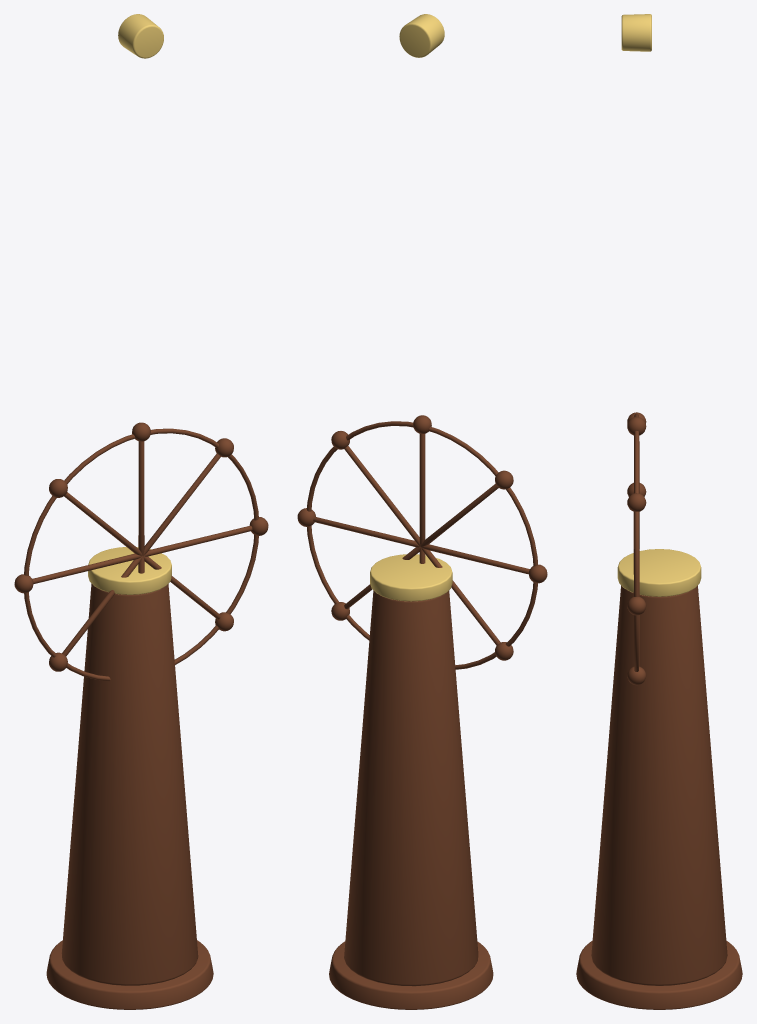
Rendered from ShipWheel_v1.0.fbx.
3 views of the same model, side by side, from view 1: azimuth 30°, elevation 25°; view 2: azimuth 150°, elevation 25°; view 3: azimuth 270°, elevation 25° (orthographic).
Visible parts, largest first — view 1: pedestal_column, pedestal_base, wheel_rim, pedestal_cap, wheel_hub, wheel_spoke_001, wheel_spoke_002, wheel_spoke_003, wheel_spoke_007, wheel_spoke_006, wheel_spoke_008; view 2: pedestal_column, pedestal_base, pedestal_cap, wheel_rim, wheel_hub, wheel_spoke_001, wheel_spoke_002, wheel_spoke_007, wheel_spoke_003, wheel_spoke_006, wheel_spoke_008; view 3: pedestal_column, pedestal_base, pedestal_cap, wheel_hub, wheel_rim.
Part boxes in pixels (x1,y1,x2,y2): pedestal_column: (61, 583, 198, 985); pedestal_base: (46, 940, 213, 1009); wheel_rim: (24, 428, 258, 681); pedestal_cap: (88, 547, 171, 594); wheel_hub: (118, 14, 163, 58); wheel_spoke_001: (138, 441, 144, 555); wheel_spoke_002: (143, 453, 220, 555); wheel_spoke_003: (143, 525, 252, 556); wheel_spoke_007: (32, 553, 142, 584); wheel_spoke_006: (62, 556, 142, 656); wheel_spoke_008: (64, 492, 142, 555); pedestal_column: (344, 590, 478, 986); pedestal_base: (329, 941, 493, 1009); pedestal_cap: (370, 554, 452, 601); wheel_rim: (307, 421, 537, 669); wheel_hub: (399, 14, 444, 57); wheel_spoke_001: (419, 434, 425, 545); wheel_spoke_002: (344, 446, 420, 546); wheel_spoke_007: (421, 544, 529, 574); wheel_spoke_003: (313, 517, 420, 547); wheel_spoke_006: (421, 547, 500, 645); wheel_spoke_008: (421, 484, 498, 546); pedestal_column: (591, 585, 727, 985); pedestal_base: (576, 940, 742, 1009); pedestal_cap: (617, 549, 701, 596); wheel_hub: (621, 14, 651, 51); wheel_rim: (634, 413, 638, 671).
Size of the model in its own units: 0.762 by 2.79 by 0.4383.
